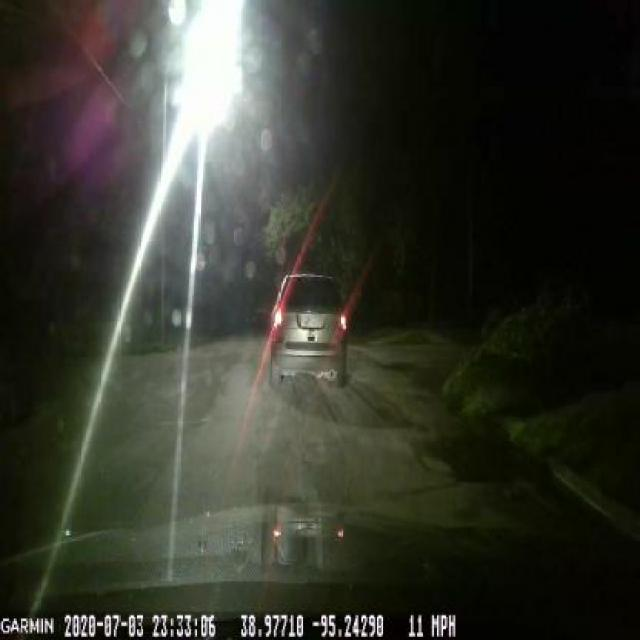Pothole: (412, 424, 556, 494)
